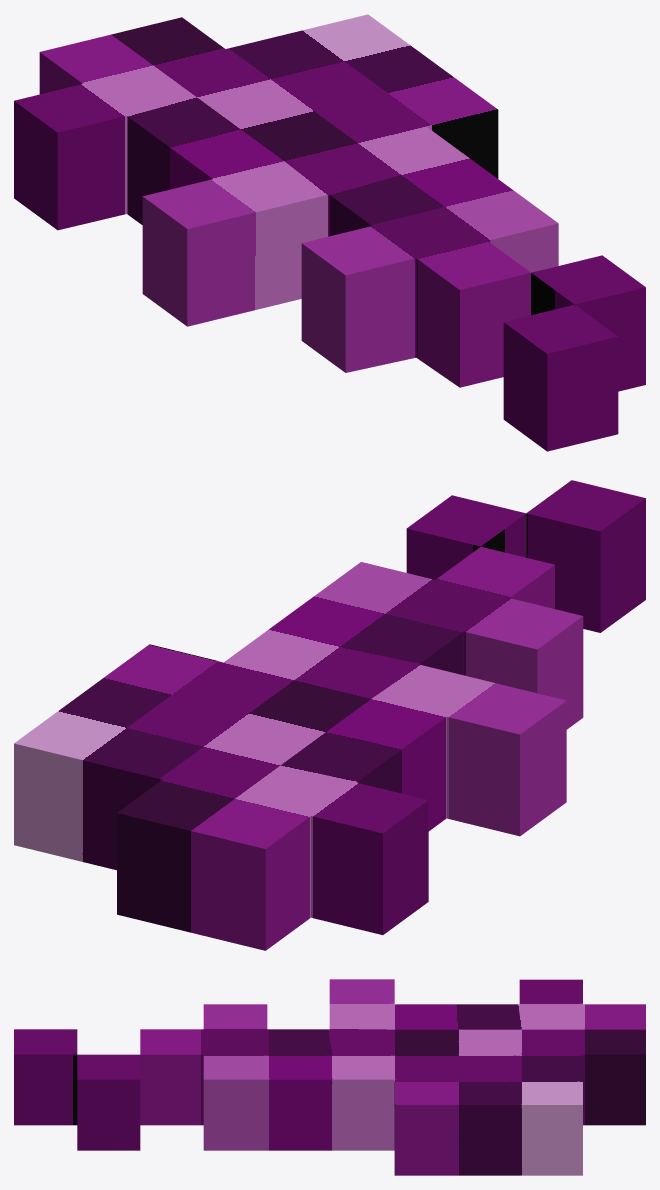
File: food_item_377x19.gltf
3 views of the same model, one above another, from view 1: azimuth 30°, elevation 25°; view 2: azimuth 150°, elevation 25°; view 3: azimuth 270°, elevation 25° (orthographic). The views are drawn at different scales.
Parts seen in each view (by area): view 1: food_item_377x19; view 2: food_item_377x19; view 3: food_item_377x19.
Boxes of the visible parts, box(x1,y1,x2,y2) form: food_item_377x19: box(14, 14, 645, 451); food_item_377x19: box(14, 480, 645, 950); food_item_377x19: box(14, 979, 645, 1175).
Bounding box in the file's own units: 0.3743 × 0.1001 × 0.7955.
Materials: 1 (1 with a texture image).
